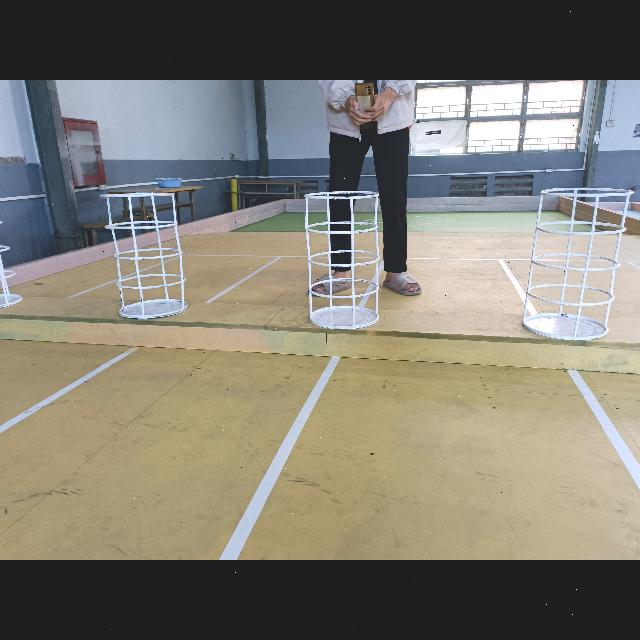S: (522, 188, 630, 342), (100, 191, 188, 322), (304, 191, 380, 331), (0, 245, 23, 309)
